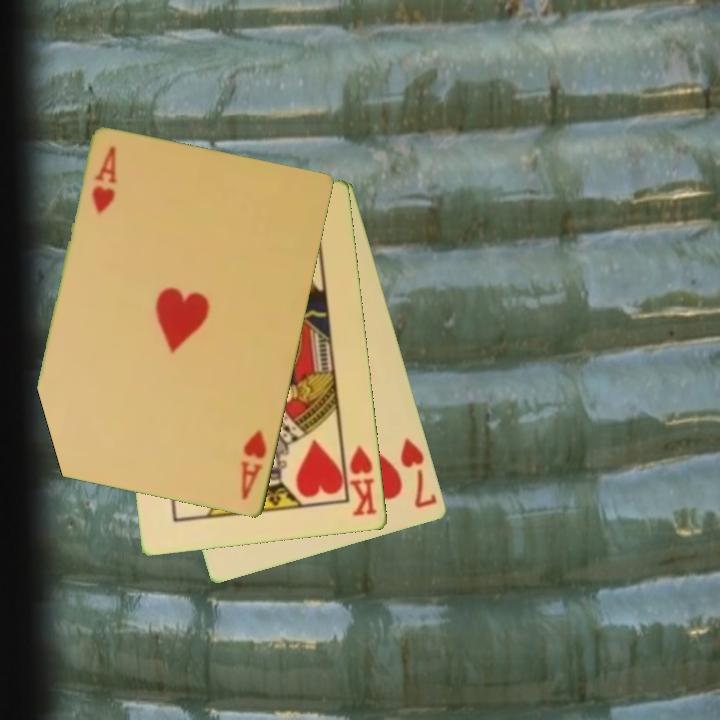7h: (397, 434, 441, 512)
Ah: (238, 426, 270, 503), (88, 142, 120, 218)
Kh: (340, 439, 380, 519)
